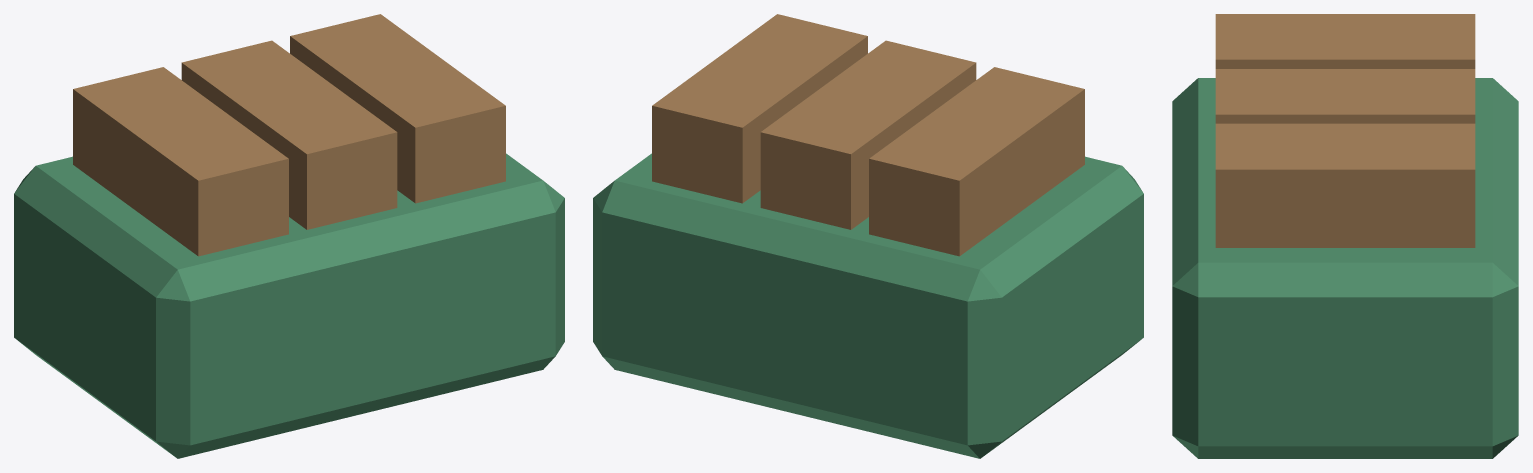
File: set_wire_basket.glb
3 renders of one model, left to right at view 1: azimuth 30°, elevation 25°; view 2: azimuth 150°, elevation 25°; view 3: azimuth 270°, elevation 25°, orthographic. The views are drawn at different scales.
Visible parts, largest first — view 1: set_wire_basket; view 2: set_wire_basket; view 3: set_wire_basket.
Boxes of the visible parts, x1,y1,x2,y2 form: set_wire_basket: (14, 14, 564, 458); set_wire_basket: (593, 14, 1143, 458); set_wire_basket: (1172, 14, 1518, 458).
Size of the model in its own units: 0.226 by 0.14 by 0.16.
